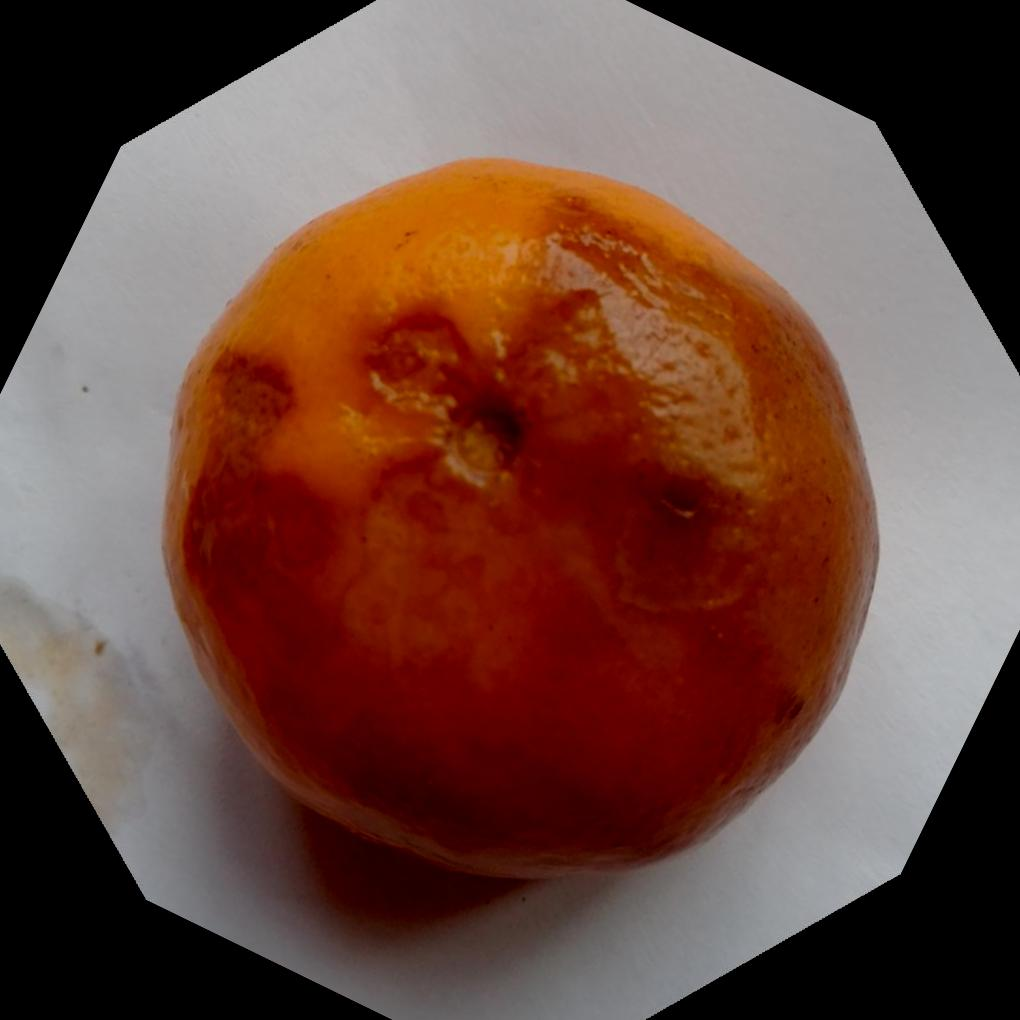FreshOrange: (158, 155, 884, 886)
